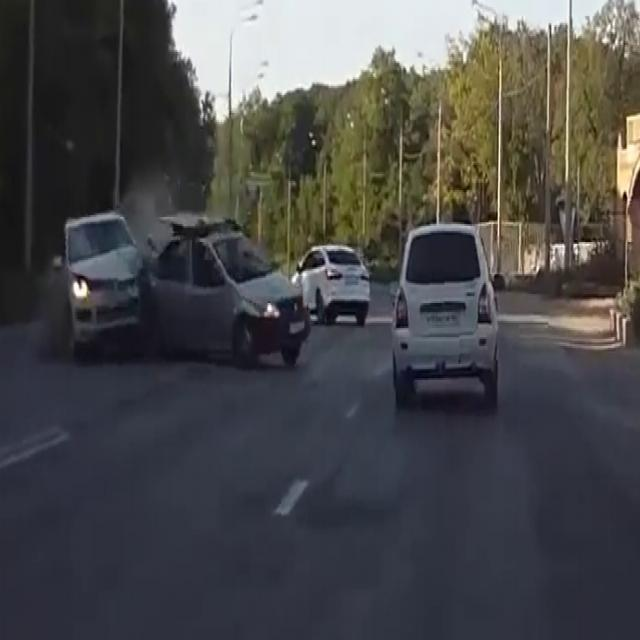accident: (47, 218, 328, 400)
